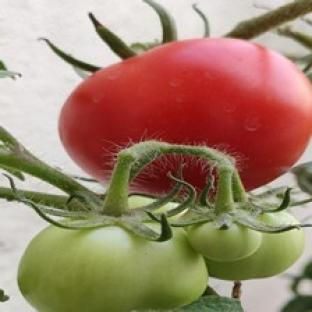Tomato: (59, 38, 311, 189), (19, 226, 207, 311), (207, 229, 305, 279), (189, 222, 261, 261)
